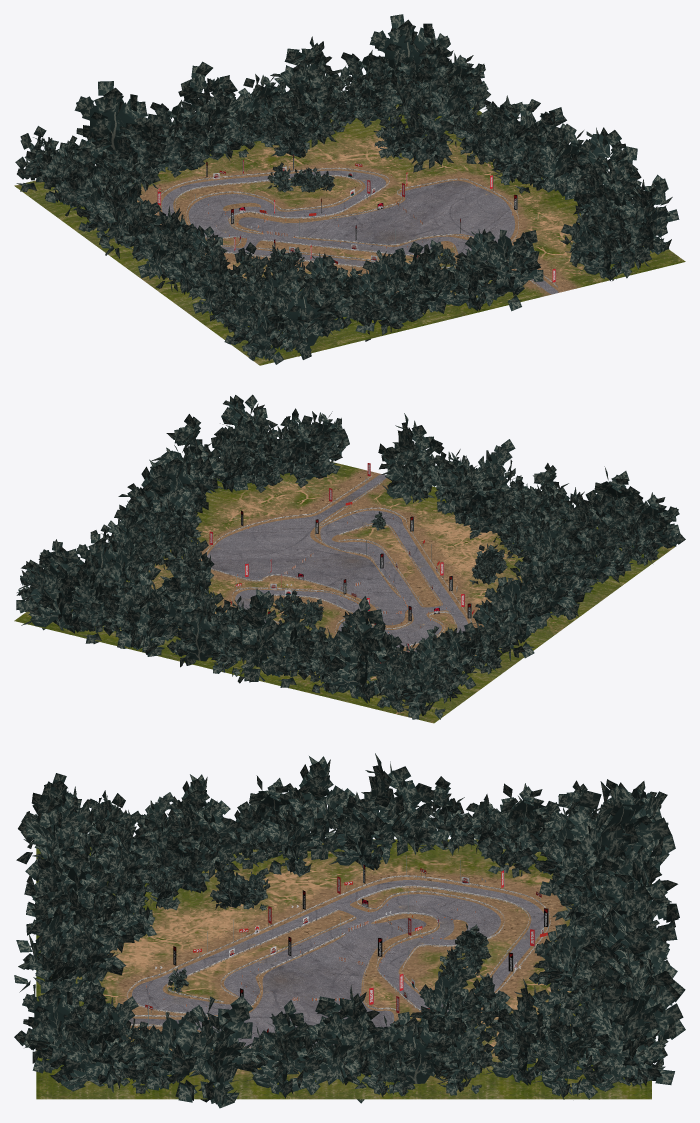
Rendered from drift-yard.glb.
The picture shows the model from 3 angles, top to bottom: view 1: azimuth 30°, elevation 25°; view 2: azimuth 150°, elevation 25°; view 3: azimuth 270°, elevation 25°; orthographic projection. The views are drawn at different scales.
Parts seen in each view (by area): view 1: track-normalise; view 2: track-normalise; view 3: track-normalise.
Boxes of the visible parts, bbox=[...] form: track-normalise: bbox=[14, 14, 685, 365]; track-normalise: bbox=[14, 394, 685, 723]; track-normalise: bbox=[14, 753, 685, 1108].
Bounding box in the file's own units: 623 × 124 × 616.
5 materials, 4 textured.
